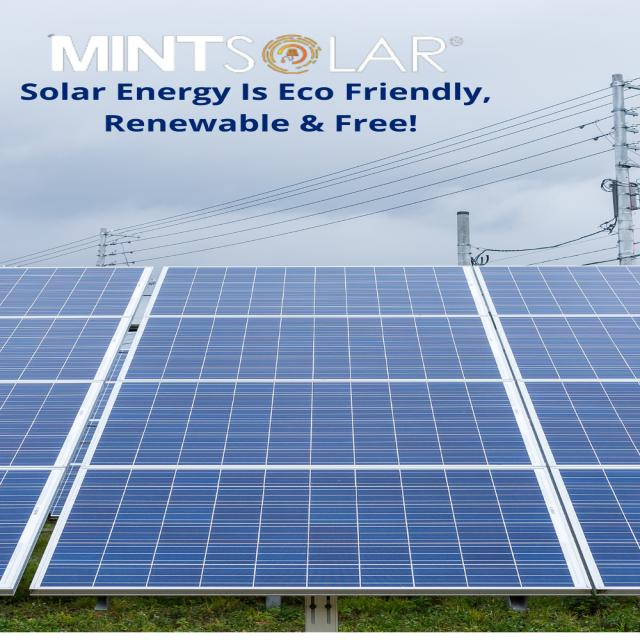dust-solar-panel: (0, 266, 639, 595)
